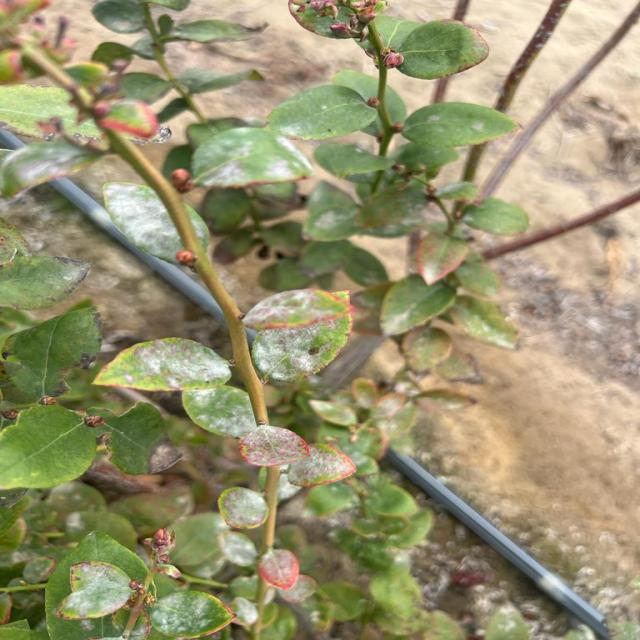Hojas con oidiosis: (89, 335, 233, 393), (52, 560, 138, 622), (142, 588, 238, 638), (236, 421, 312, 469)
